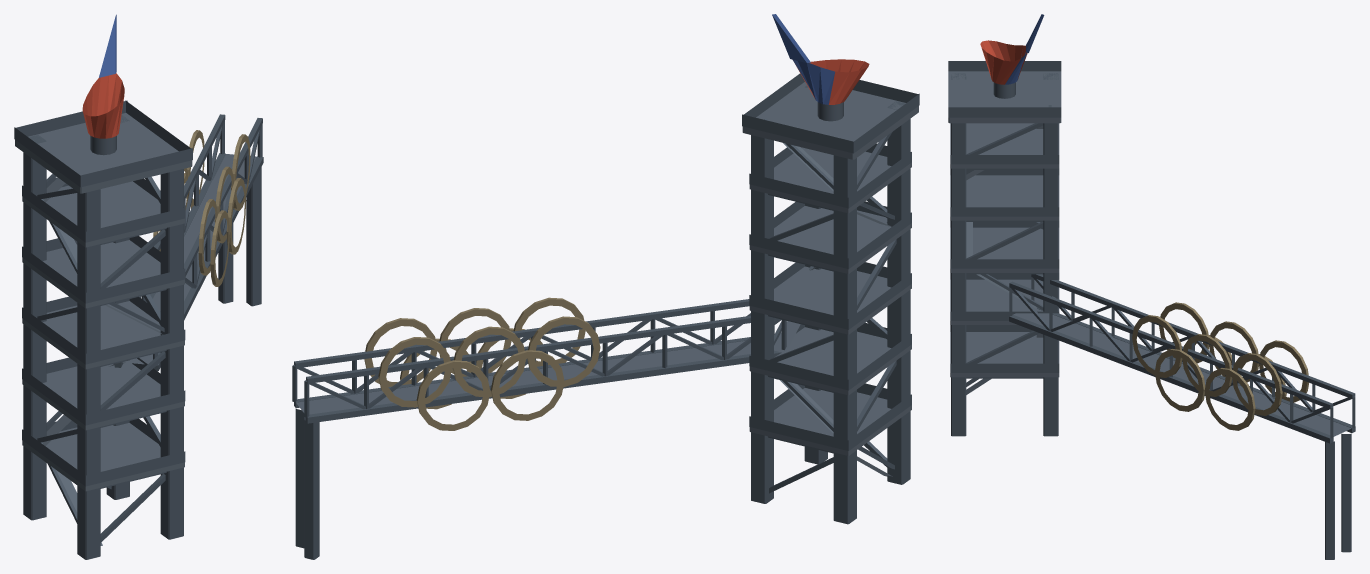
The model's file is atl-olympic-cauldron.glb.
3 views of the same model, side by side, from view 1: azimuth 30°, elevation 25°; view 2: azimuth 150°, elevation 25°; view 3: azimuth 270°, elevation 25° (orthographic). The views are drawn at different scales.
Parts seen in each view (by area): view 1: 1996 Olympic Cauldron; view 2: 1996 Olympic Cauldron; view 3: 1996 Olympic Cauldron.
Boxes of the visible parts, left/top/right/bottom form: 1996 Olympic Cauldron: left=14, top=14, right=263, bottom=559; 1996 Olympic Cauldron: left=292, top=14, right=919, bottom=559; 1996 Olympic Cauldron: left=948, top=14, right=1355, bottom=559.
Bounding box in the file's own units: 39.02 × 44.6 × 39.62.
